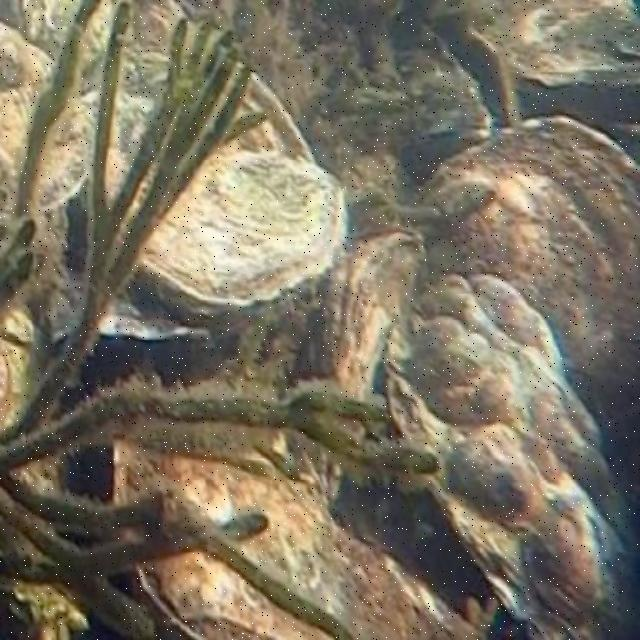Oyster-Closed: (388, 278, 640, 640), (111, 430, 478, 640), (417, 120, 640, 435), (99, 43, 352, 311), (331, 221, 427, 411), (0, 34, 94, 223)
